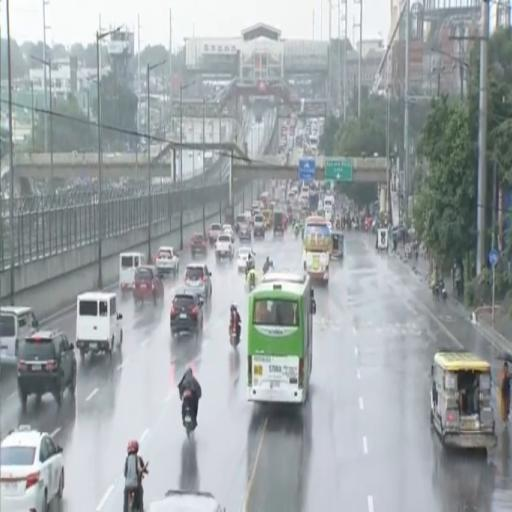bus: (248, 272, 315, 404), (303, 216, 332, 283), (260, 191, 269, 210)
car: (0, 425, 64, 511), (17, 330, 76, 409), (0, 307, 38, 364), (170, 287, 204, 337), (150, 490, 226, 511), (134, 265, 164, 305), (185, 263, 212, 301), (155, 247, 179, 275), (237, 247, 254, 270), (191, 233, 206, 257), (207, 223, 222, 245), (253, 215, 265, 237), (223, 224, 235, 243), (239, 223, 251, 242), (236, 214, 247, 233)
jeepney: (431, 350, 496, 449)
motorcycle: (183, 390, 195, 438), (128, 489, 143, 511), (433, 281, 447, 301), (230, 320, 239, 348), (439, 281, 447, 301), (248, 274, 256, 291), (262, 263, 273, 275), (294, 224, 299, 238)
truck: (215, 233, 234, 261)
